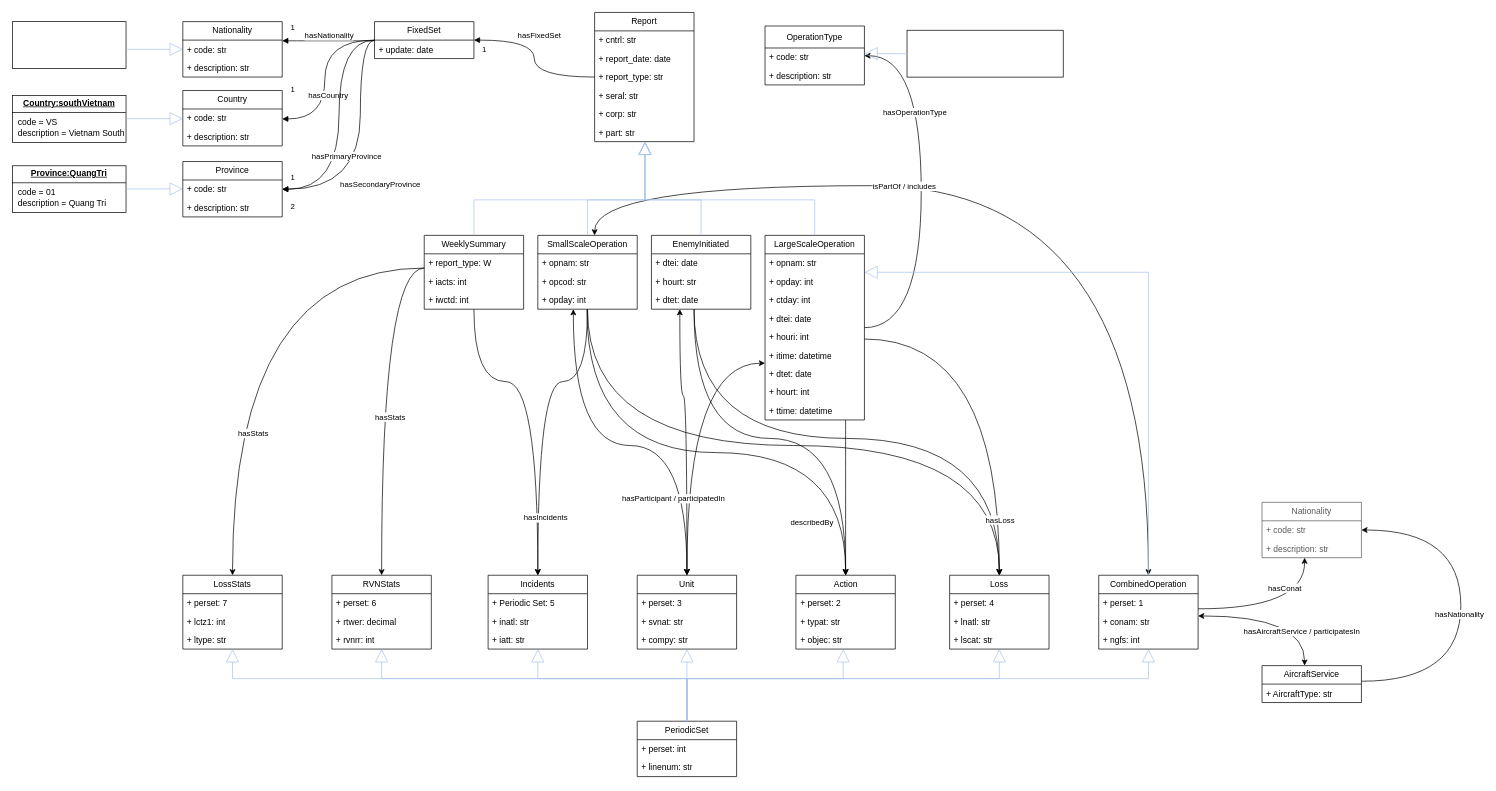
Some shapes in this 1496 by 791 pixel diagram are drawn without their labels. The centre of each missing label's shape, as x and y in pixels:
"Nationality:RVN code = A description = RVN" belongs at pixel 69 45.
"OperationType:SearchAndDestroy code = SD description = Search and Destroy" belongs at pixel 984 53.
